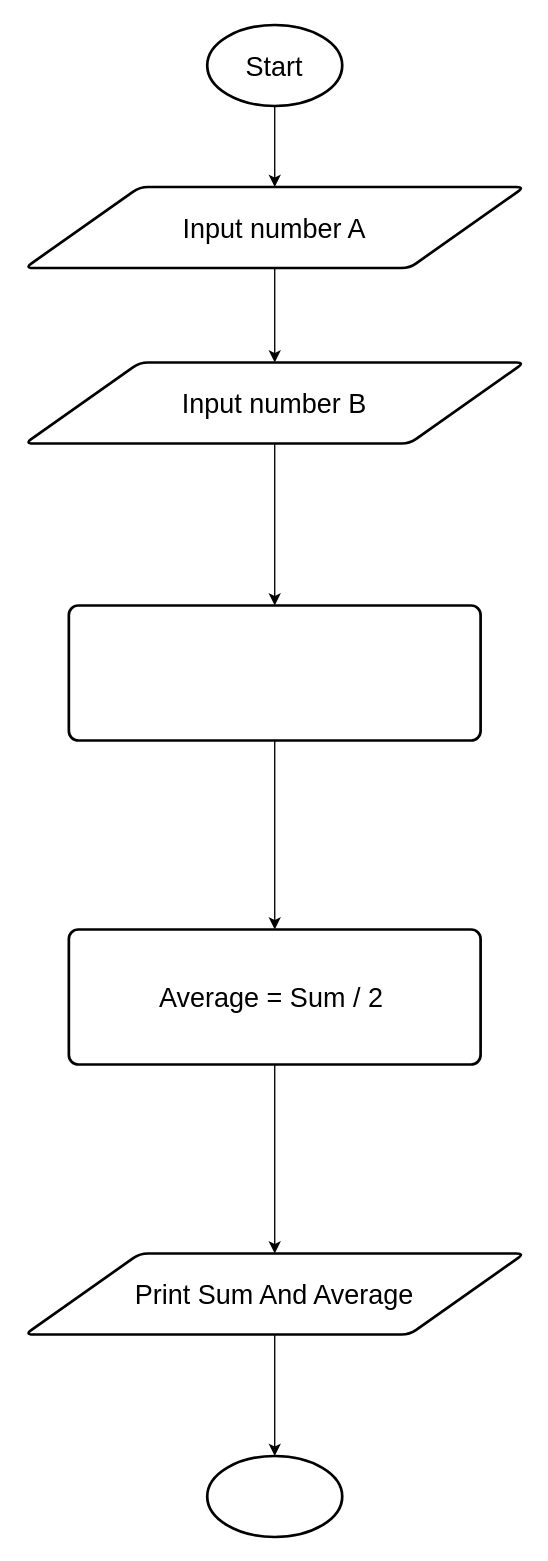
Some shapes in this 548 by 1561 pixel diagram are drawn without their labels. The shapes that lost their labels are listed below. From the top down, each one's centre as x and y in pixels, then its label:
[274,672]: Sum = A + B
[274,1496]: Stop
